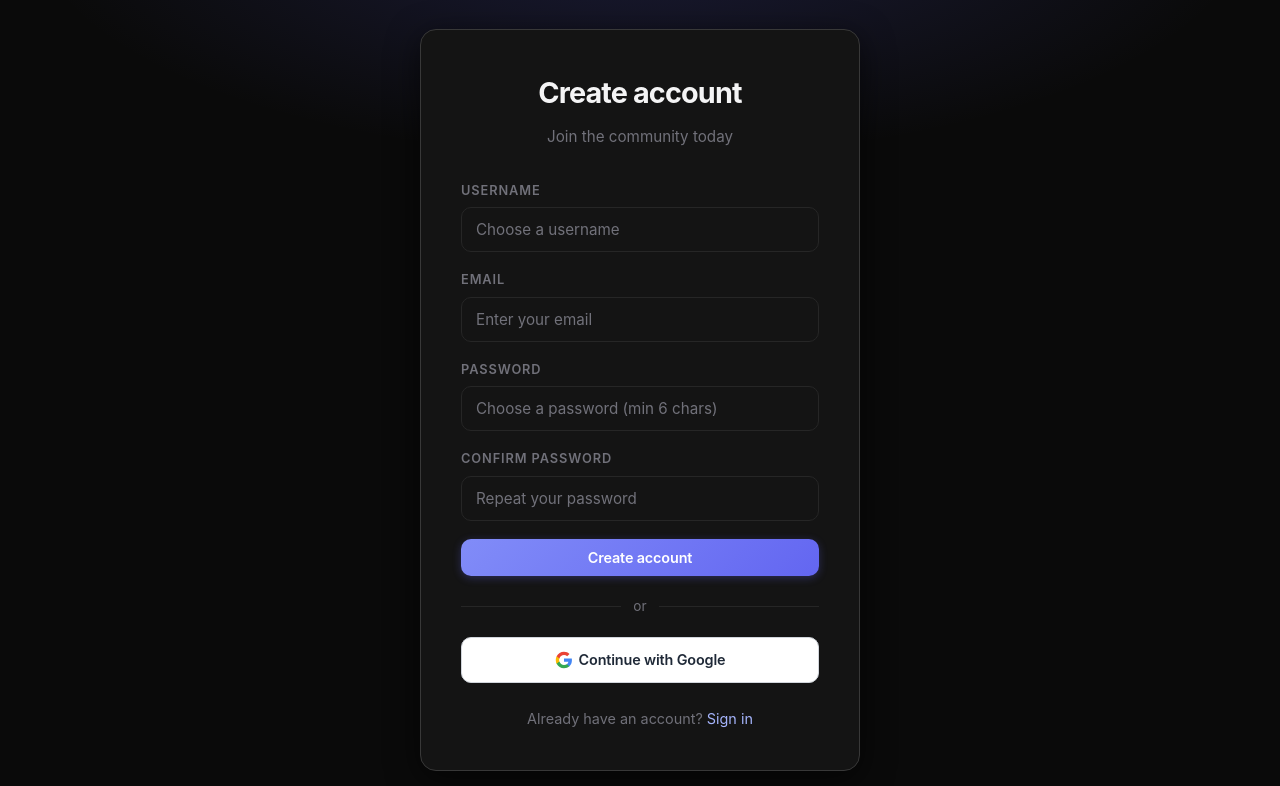
RegisterPage › Client-side validation › shows all required errors on empty submit
Click the button "Create account" at (640, 557), box [461, 539, 819, 576]
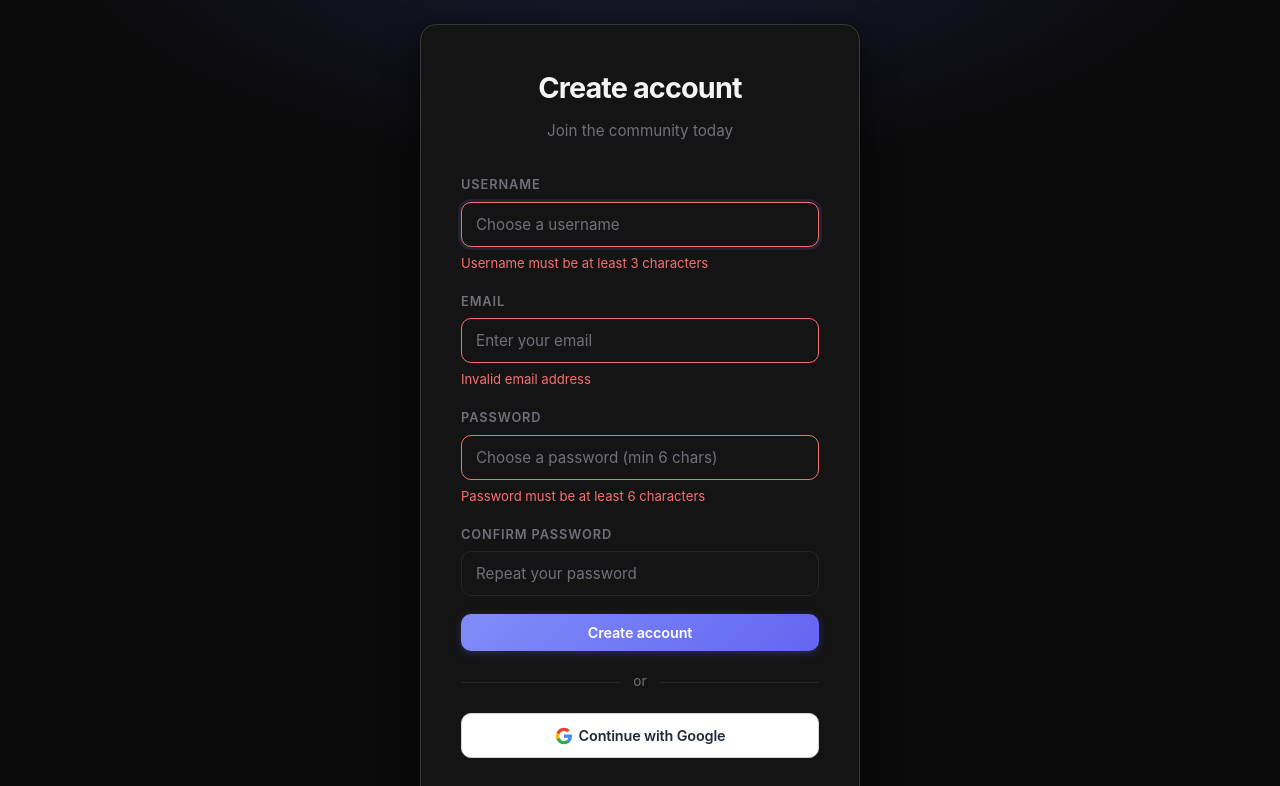
Expected: the text "Username must be at least 3 characters" is shown, [461, 255, 708, 271]
Expected: the text "Invalid email address" is shown, [461, 371, 591, 387]
Expected: the text "Password must be at least 6 characters" is shown, [461, 488, 705, 504]
